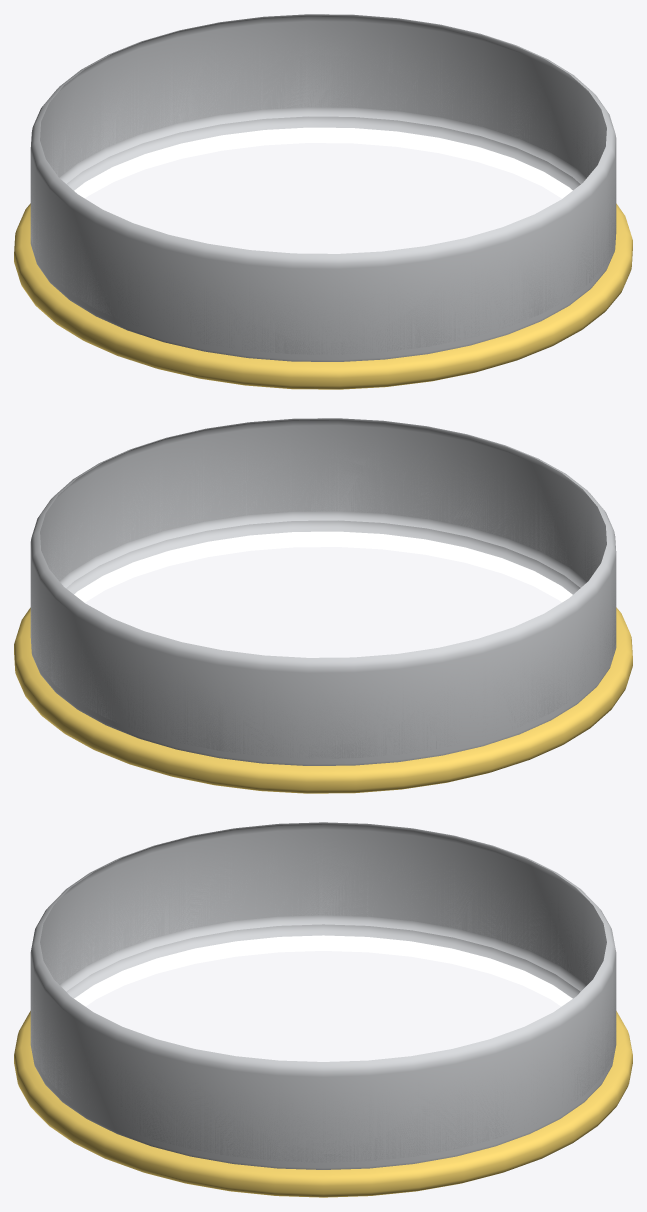
The model's file is tower_tiers.glb.
The picture shows the model from 3 angles, top to bottom: view 1: azimuth 30°, elevation 25°; view 2: azimuth 150°, elevation 25°; view 3: azimuth 270°, elevation 25°; orthographic projection.
Visible parts, largest first — view 1: TWR_Tier, TWR_TierMilestone; view 2: TWR_Tier, TWR_TierMilestone; view 3: TWR_Tier, TWR_TierMilestone.
Part boxes in pixels (left/top/right/bottom): TWR_Tier: left=30, top=14, right=616, bottom=361; TWR_TierMilestone: left=14, top=21, right=632, bottom=389; TWR_Tier: left=30, top=418, right=616, bottom=765; TWR_TierMilestone: left=14, top=425, right=632, bottom=793; TWR_Tier: left=30, top=822, right=616, bottom=1169; TWR_TierMilestone: left=14, top=829, right=632, bottom=1197.
Size of the model in its own units: 1.31 by 0.3 by 1.31.
